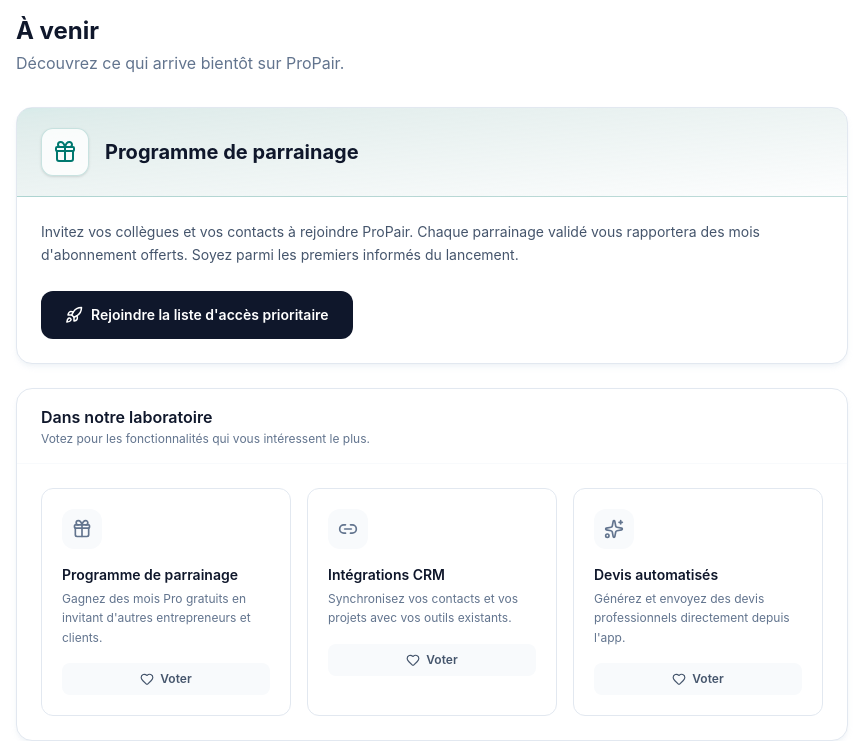
Test: ComingSoon › clicking vote button changes to voted state
Click the 2nd button "Voter" at [166, 679], box [62,663,270,695]
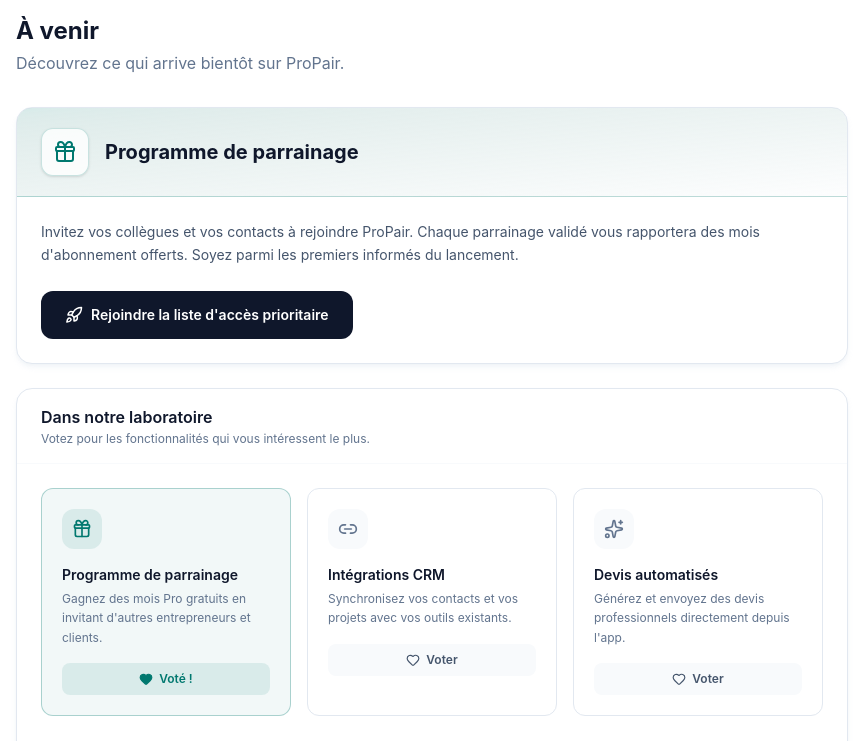
Check: the button "Voté !" is shown, box [62,663,270,695]
